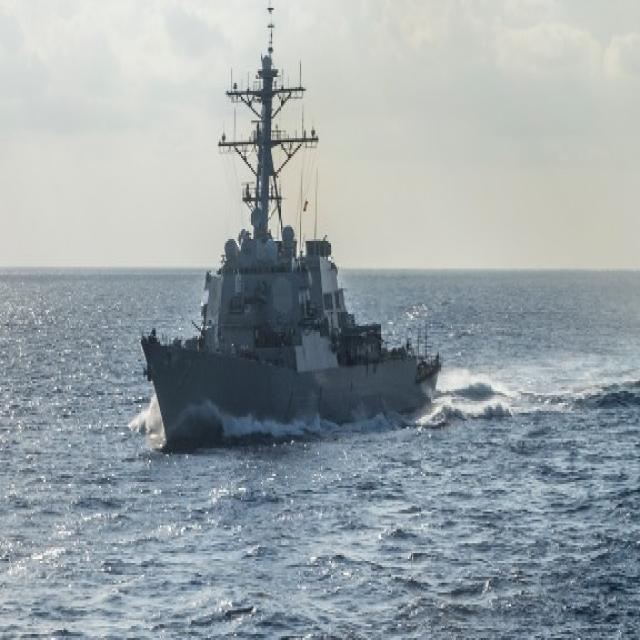navalvessels: (136, 10, 437, 454)
